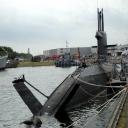submarine: (14, 32, 119, 126)
